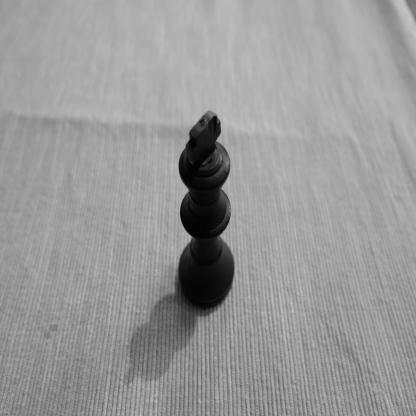black-king: (176, 110, 236, 310)
